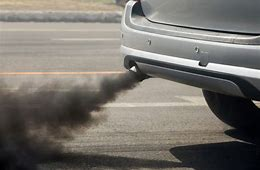smoke: (1, 70, 139, 170)
